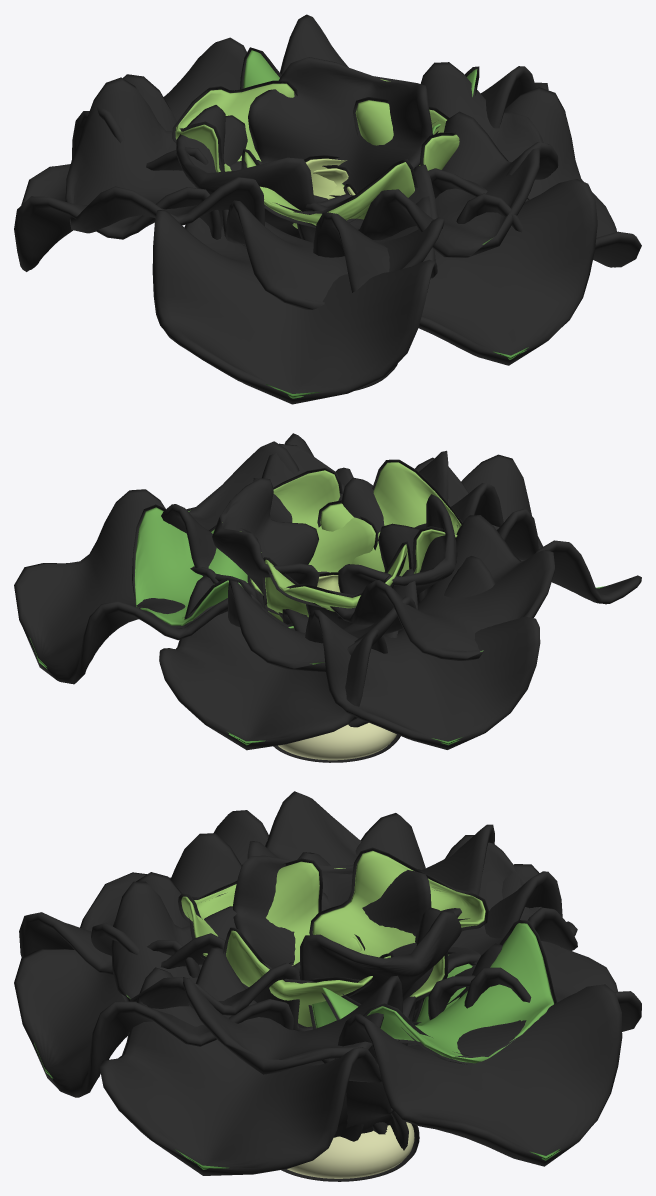
The model's file is lettuce.fbx.
3 renders of one model, top to bottom at view 1: azimuth 30°, elevation 25°; view 2: azimuth 150°, elevation 25°; view 3: azimuth 270°, elevation 25°, orthographic. The views are drawn at different scales.
Parts seen in each view (by area): view 1: Lettuce; view 2: Lettuce, Lettuce_Stem; view 3: Lettuce, Lettuce_Stem.
Boxes of the visible parts, bbox=[...] form: Lettuce: bbox=[14, 14, 641, 404]; Lettuce: bbox=[14, 433, 641, 750]; Lettuce_Stem: bbox=[273, 723, 400, 762]; Lettuce: bbox=[14, 791, 641, 1175]; Lettuce_Stem: bbox=[281, 1122, 419, 1181].
Size of the model in its own units: 232 by 106 by 226.
